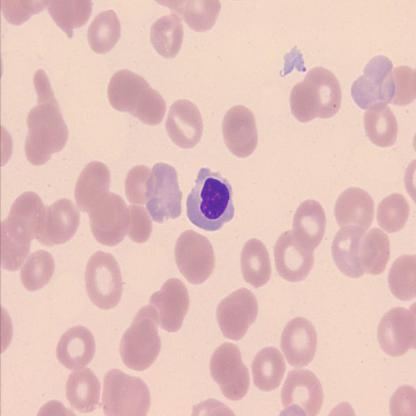NRC: (186, 164, 236, 230)
